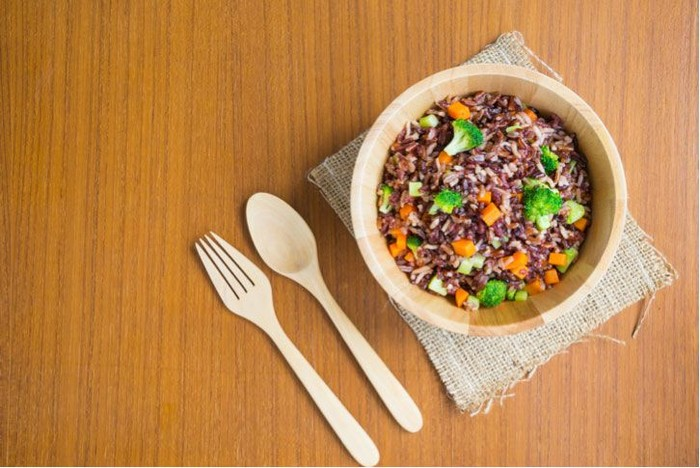Nasi Merah: (336, 90, 636, 327)
